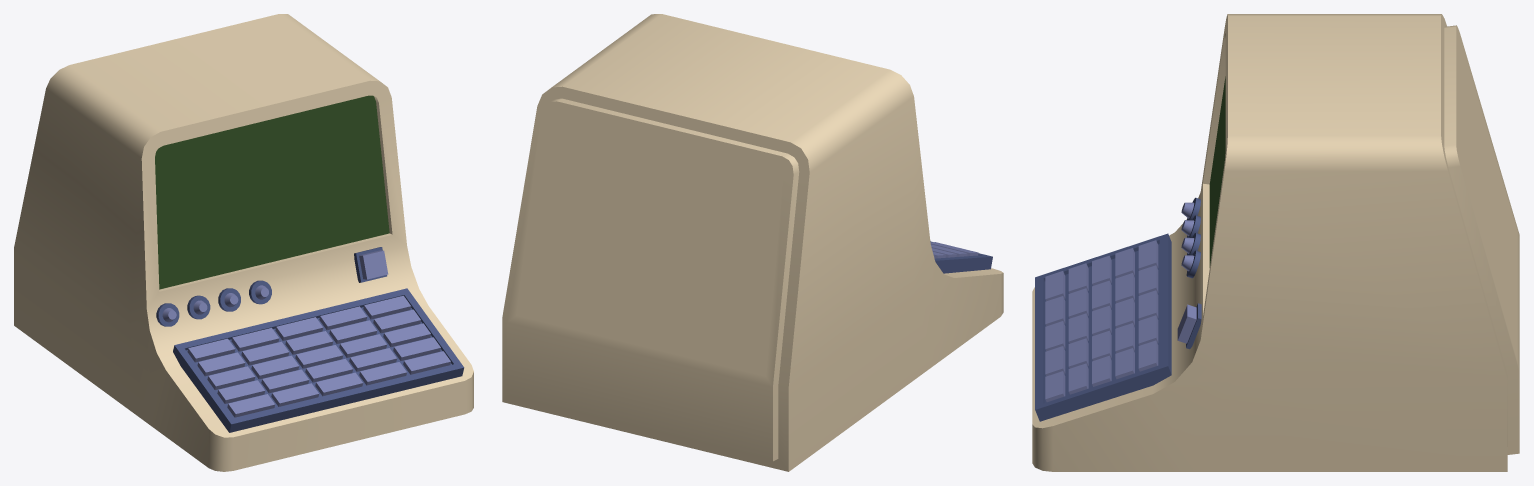
Rendered from Computer.fbx.
The picture shows the model from 3 angles, left to right: view 1: azimuth 30°, elevation 25°; view 2: azimuth 150°, elevation 25°; view 3: azimuth 270°, elevation 25°; orthographic projection. The views are drawn at different scales.
Parts seen in each view (by area): view 1: Cube.086, Cube.087, Cylinder.037, Cube.088; view 2: Cube.086, Cube.087; view 3: Cube.086, Cube.087, Cylinder.037, Cube.088.
Part boxes in pixels (x1,y1,x2,y2): Cube.086: (14,14,473,471); Cube.087: (173,288,464,432); Cylinder.037: (156,280,271,326); Cube.088: (354,247,388,282); Cube.086: (502,14,1003,471); Cube.087: (930,241,992,273); Cube.086: (1032,14,1519,471); Cube.087: (1035,233,1171,421); Cylinder.037: (1181,197,1200,278); Cube.088: (1177,303,1201,349).
Size of the model in its own units: 76.96 by 76.96 by 106.
